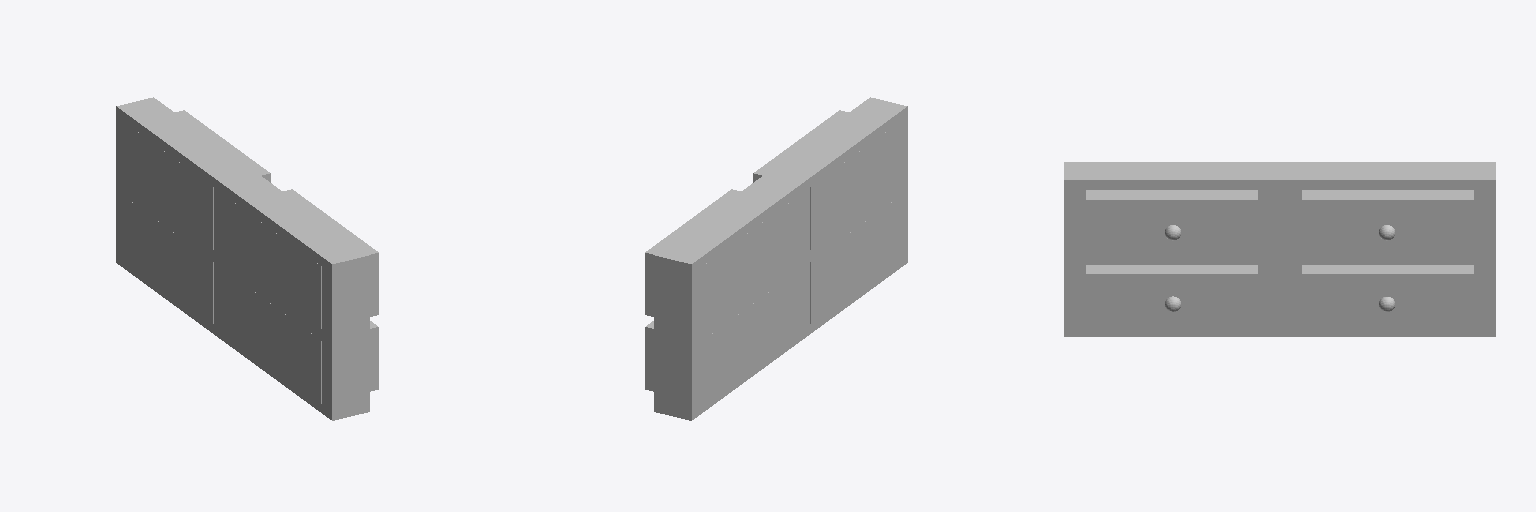
File: tvstand.obj
3 renders of one model, left to right at view 1: azimuth 30°, elevation 25°; view 2: azimuth 150°, elevation 25°; view 3: azimuth 270°, elevation 25°, orthographic.
Visible parts, largest first — view 1: Cube; view 2: Cube; view 3: Cube.
Part boxes in pixels (x1,y1,x2,y2): Cube: (116,97,378,420); Cube: (645,97,907,420); Cube: (1064,162,1495,336).
Size of the model in its own units: 1.7 by 4 by 10.